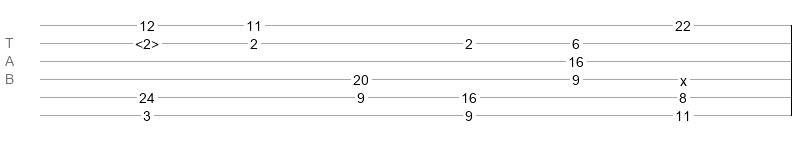11: (246, 18, 262, 28), (675, 108, 691, 118)
12: (139, 18, 155, 28)
16: (461, 90, 477, 100), (568, 54, 584, 64)
2: (250, 36, 258, 46), (465, 36, 473, 46)
20: (353, 72, 369, 82)
22: (675, 18, 691, 28)
24: (139, 90, 155, 100)
3: (143, 108, 151, 118)
6: (572, 36, 580, 46)
8: (679, 90, 687, 100)
9: (357, 90, 365, 100), (465, 108, 473, 118), (572, 72, 580, 82)
harmonic: (135, 36, 159, 46)
x: (680, 73, 687, 81)
